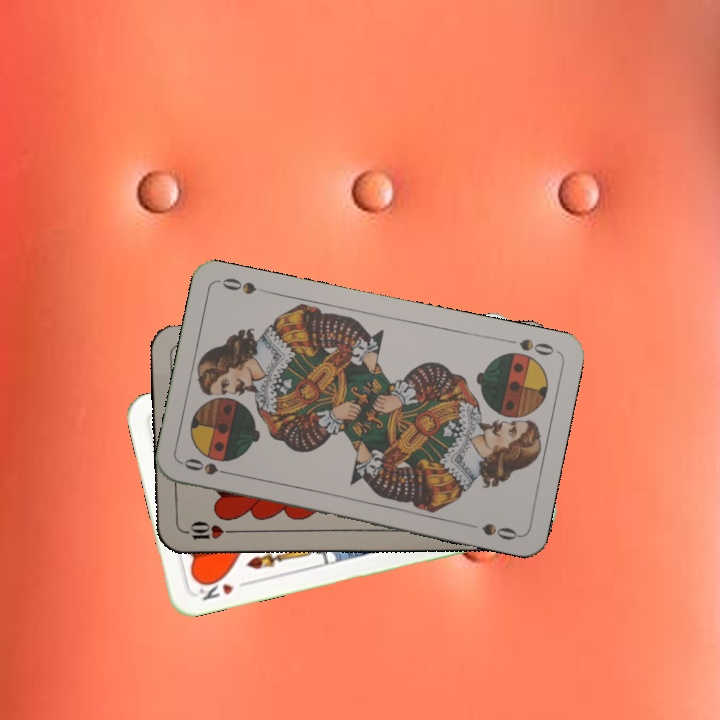H10: (178, 518, 237, 542)
HK: (194, 573, 252, 604)
SO: (180, 454, 237, 479), (500, 334, 559, 358)
